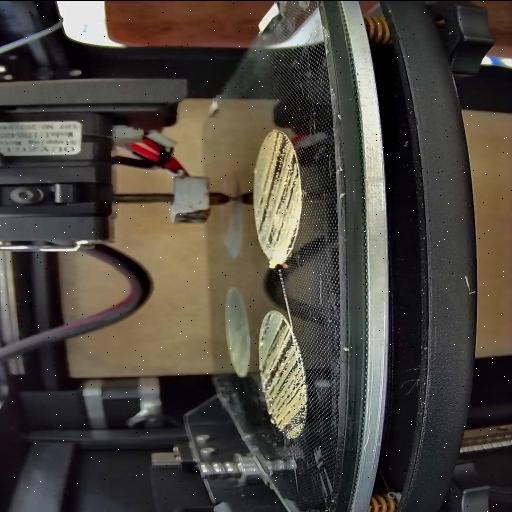under_extrusion: (258, 314, 304, 434), (254, 132, 298, 250)
